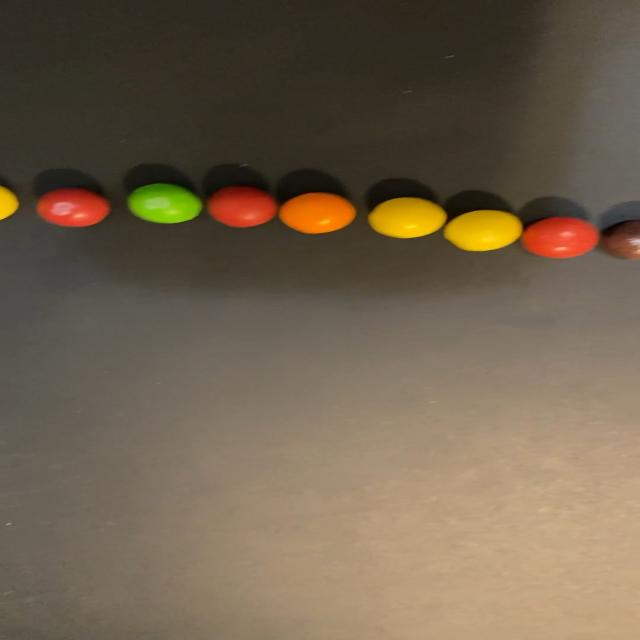smartie: (367, 197, 446, 238), (444, 210, 523, 251), (521, 217, 599, 258), (278, 192, 355, 233), (126, 183, 201, 223), (207, 185, 276, 227), (35, 187, 109, 226), (601, 220, 640, 259)
